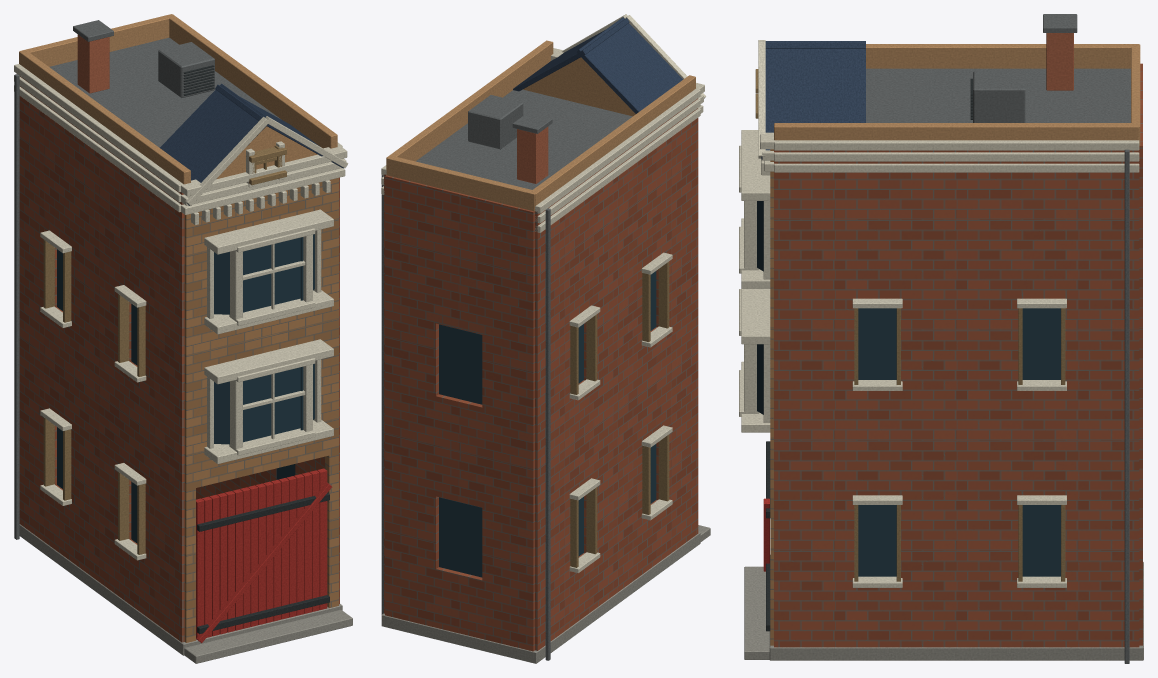
The model's file is VICT2A_lod1.glb.
The picture shows the model from 3 angles, left to right: view 1: azimuth 30°, elevation 25°; view 2: azimuth 150°, elevation 25°; view 3: azimuth 270°, elevation 25°; orthographic projection. The views are drawn at different scales.
Parts seen in each view (by area): view 1: VICT2A_LOD1; view 2: VICT2A_LOD1; view 3: VICT2A_LOD1.
Boxes of the visible parts, x1,y1,x2,y2 form: VICT2A_LOD1: (14,14,352,663); VICT2A_LOD1: (381,14,710,663); VICT2A_LOD1: (739,14,1143,663).
Size of the model in its own units: 3.71 by 10.46 by 6.65.
Materials: 13 (11 with a texture image).
